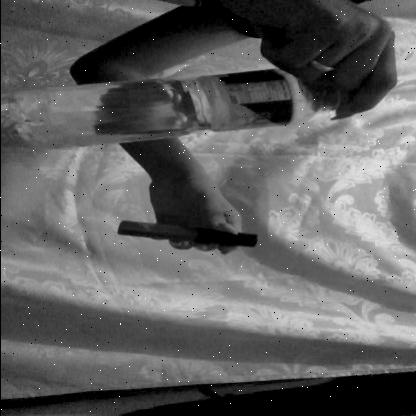Plastic Bottle: (0, 60, 399, 158)
